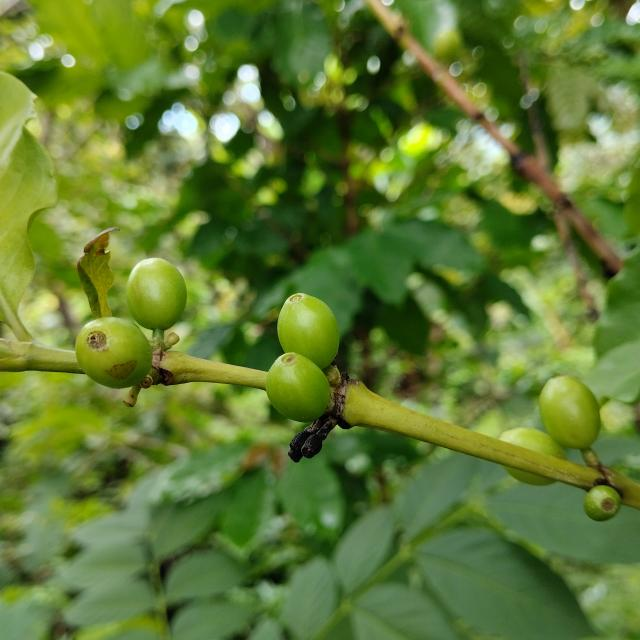green: (75, 317, 152, 389), (75, 317, 152, 389), (277, 293, 340, 369), (265, 352, 330, 423), (265, 352, 330, 423), (540, 376, 602, 450), (540, 376, 602, 450), (125, 258, 186, 331), (499, 428, 567, 460), (499, 428, 567, 460), (585, 486, 622, 522), (504, 467, 556, 486), (504, 467, 556, 486)
